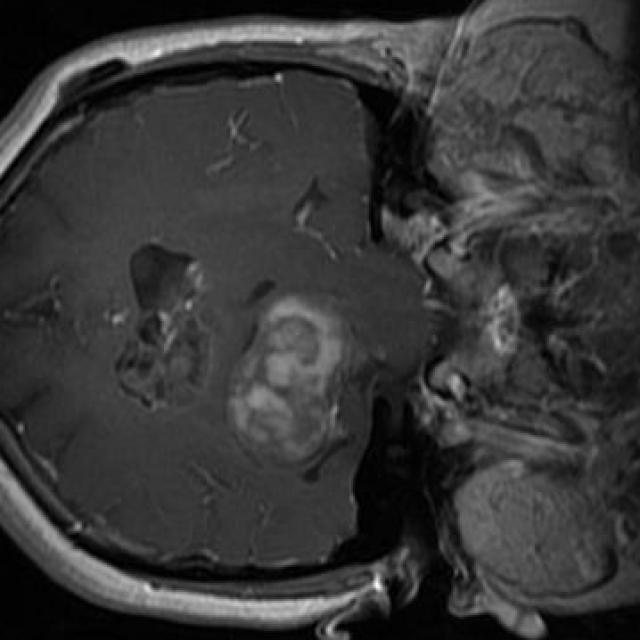glioma: (226, 298, 365, 467)
